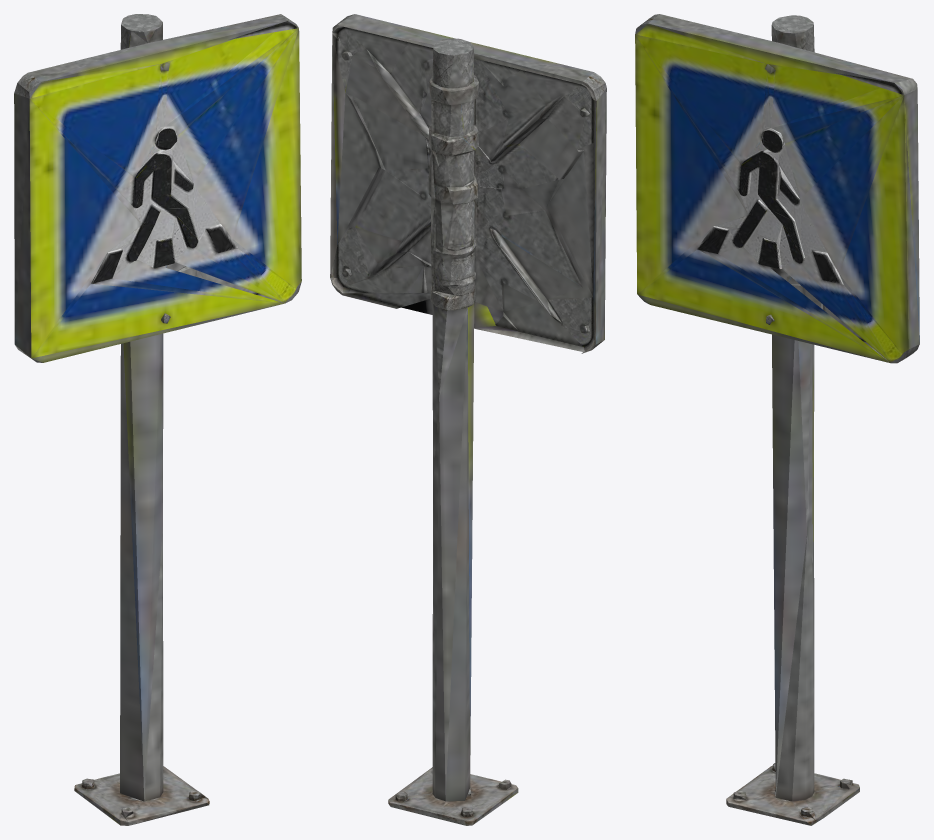
The model's file is crosswalk_sign_1500.glb.
3 views of the same model, side by side, from view 1: azimuth 30°, elevation 25°; view 2: azimuth 150°, elevation 25°; view 3: azimuth 330°, elevation 25° (orthographic). The views are drawn at different scales.
Parts seen in each view (by area): view 1: output_unwrapped; view 2: output_unwrapped; view 3: output_unwrapped.
Boxes of the visible parts, bbox=[...] form: output_unwrapped: bbox=[14, 14, 301, 825]; output_unwrapped: bbox=[330, 14, 606, 825]; output_unwrapped: bbox=[635, 14, 919, 825].
Size of the model in its own units: 0.9669 by 2.6 by 0.3126.
Materials: 1 (1 with a texture image).
